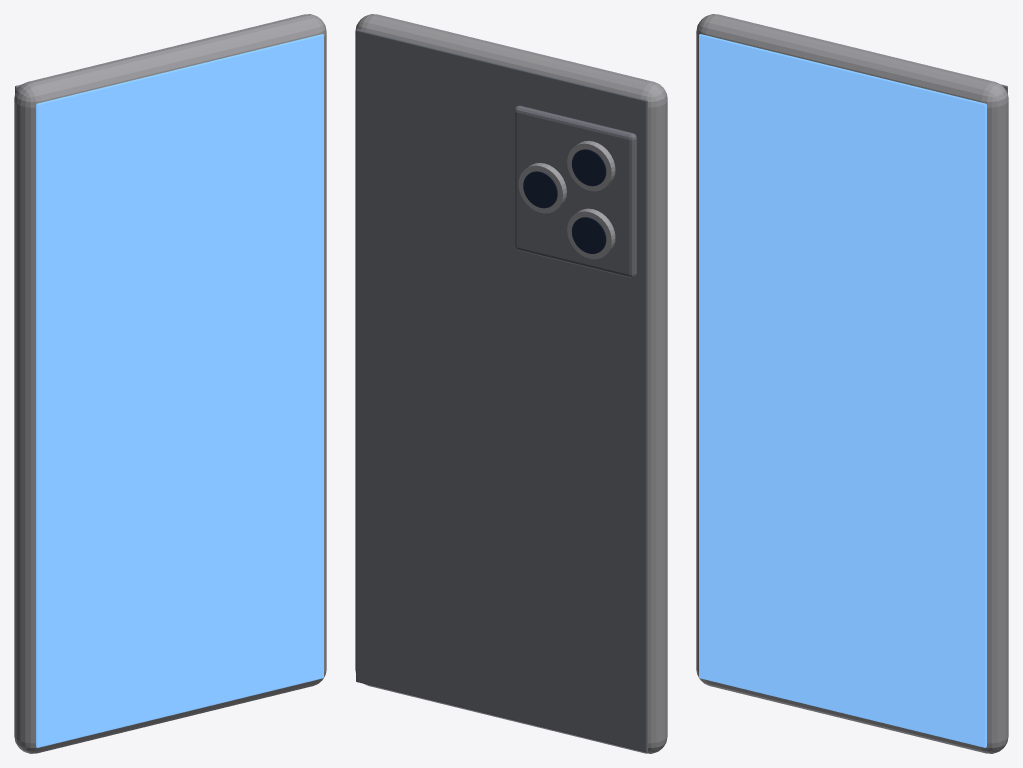
The model's file is smartphone.glb.
3 renders of one model, left to right at view 1: azimuth 30°, elevation 25°; view 2: azimuth 150°, elevation 25°; view 3: azimuth 330°, elevation 25°, orthographic.
Visible parts, largest first — view 1: Display_OLED, Phone_Chassis; view 2: Rear_Glass, Phone_Chassis, Camera_Island, Cylinder.002, Cylinder.001, Cylinder, Lens_Ring_1, Lens_Ring_3, Lens_Ring_2; view 3: Display_OLED, Phone_Chassis.
Part boxes in pixels (<box>): Display_OLED: <box>36,34,323,747</box>; Phone_Chassis: <box>14,14,326,753</box>; Rear_Glass: <box>356,29,647,752</box>; Phone_Chassis: <box>355,14,667,753</box>; Camera_Island: <box>514,105,636,277</box>; Cylinder.002: <box>523,171,557,208</box>; Cylinder.001: <box>571,217,606,253</box>; Cylinder: <box>572,149,606,186</box>; Lens_Ring_1: <box>567,141,615,191</box>; Lens_Ring_3: <box>518,163,566,213</box>; Lens_Ring_2: <box>567,208,615,259</box>; Display_OLED: <box>699,34,986,747</box>; Phone_Chassis: <box>696,14,1008,753</box>.
Bounding box in the file's own units: 0.076 × 0.158 × 0.0129.
